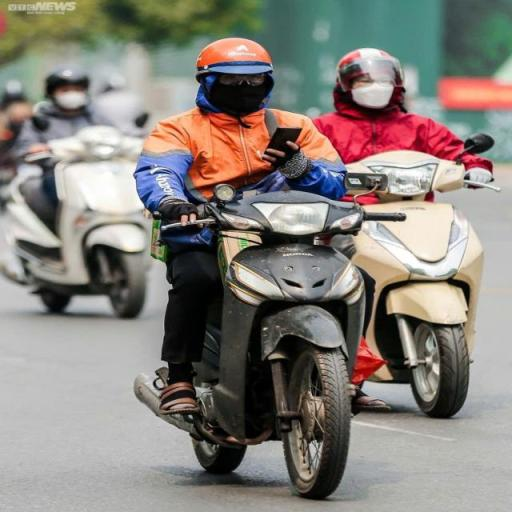with helmet: (324, 39, 409, 94), (184, 33, 279, 80), (39, 65, 93, 96)
